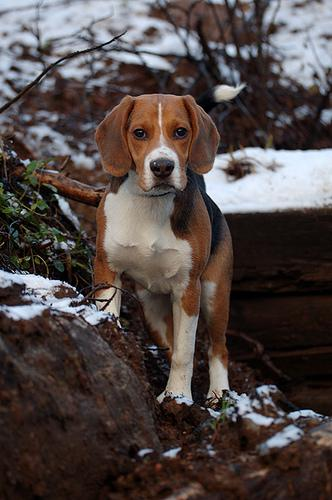dog-beagle: (94, 92, 219, 190)
